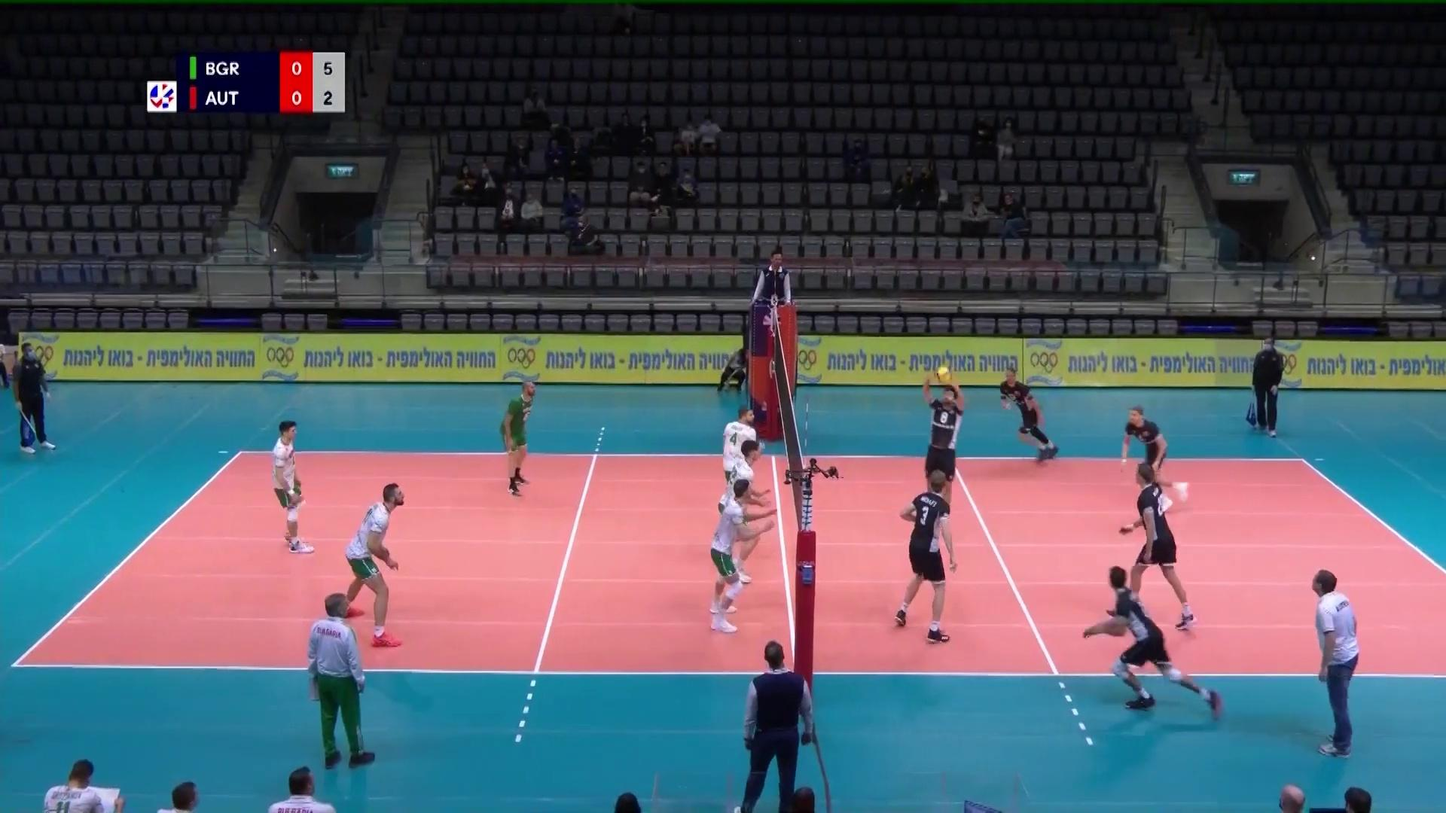ball: (937, 365, 952, 383), (936, 367, 951, 383)
